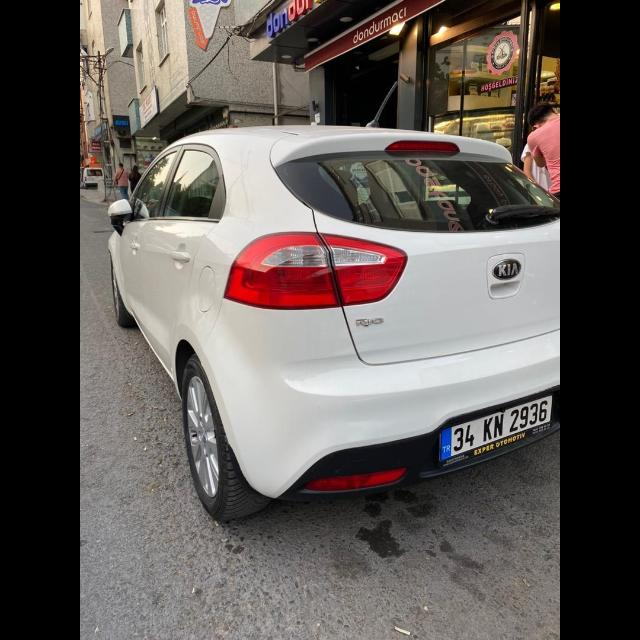Plaka: (442, 397, 552, 461)
